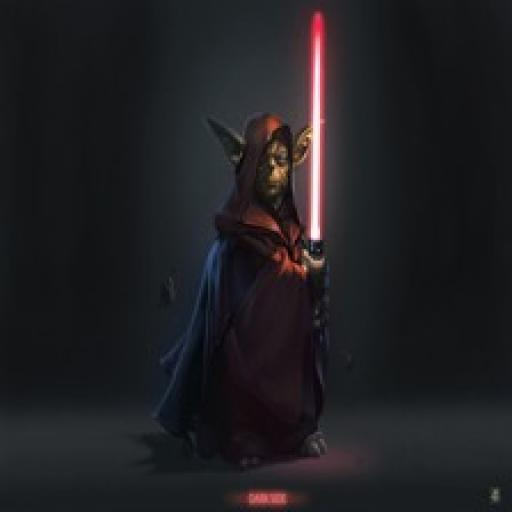lightsaber: (307, 13, 327, 299)
